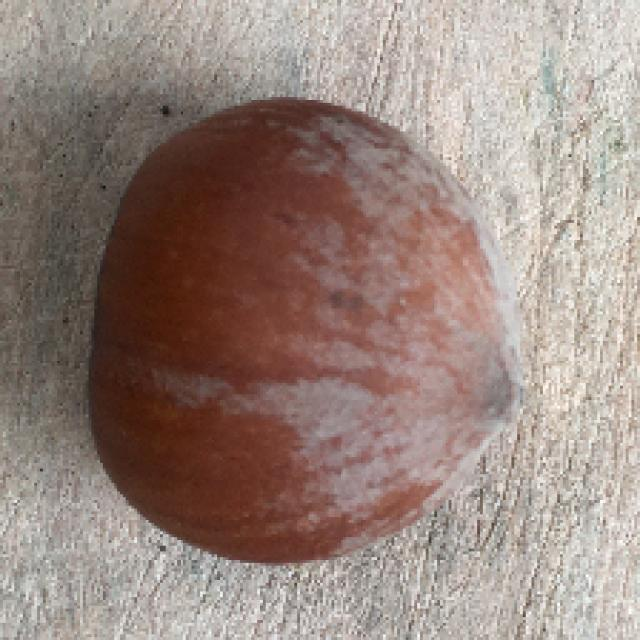qualityHazelnut: (73, 90, 534, 568)
